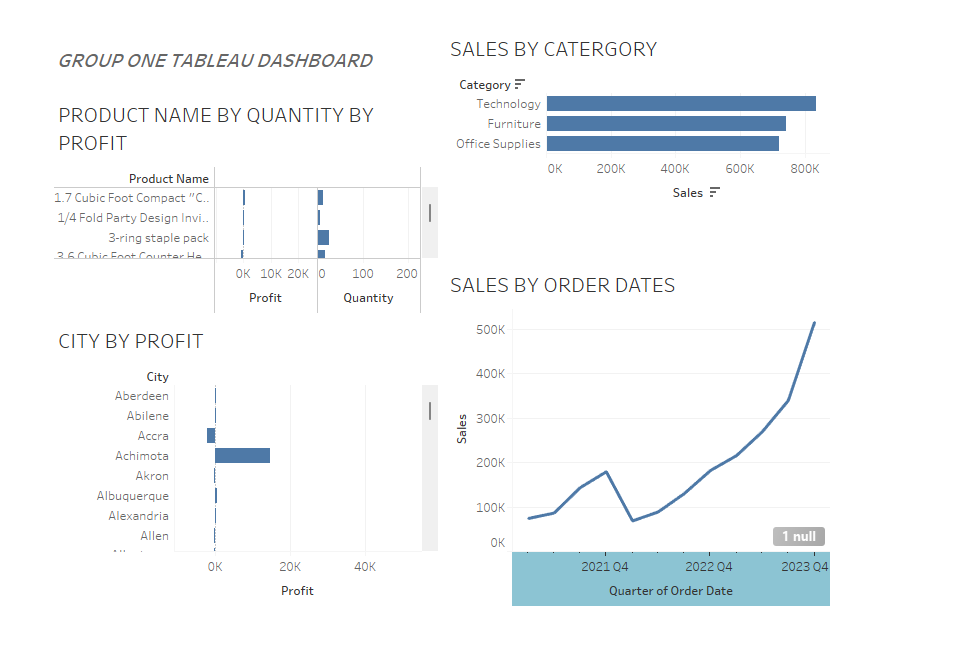

The dashboard page shown, as its layout file describes it:
{"tool":"tableau","page":{"name":"Dashboard 1","canvas":[800,600],"ordinal":0},"visuals":[{"type":"text","box":[8,8,392,66]},{"type":"worksheet","title":"Sheet 1","mark":"Automatic","rows":["Category"],"cols":["Sales"],"box":[400,8,392,236]},{"type":"worksheet","title":"Sheet 3","mark":"Automatic","rows":["Product Name"],"cols":["Profit","Quantity"],"box":[8,74,392,226]},{"type":"worksheet","title":"Sheet 2","mark":"Automatic","rows":["Sales"],"cols":["Order Date"],"box":[400,244,392,348]},{"type":"worksheet","title":"Sheet 4","mark":"Automatic","rows":["City"],"cols":["Profit"],"box":[8,300,392,292]}]}

Visuals, with their boxes on the page's 800x600 design canvas (x1, y1, x2, y2). These are canvas units, not pixel positions in the 955x647 screenshot, which may show the page scaled, cropped or inside an application window:
text: left=8, top=8, right=400, bottom=74
"Sheet 1" worksheet: left=400, top=8, right=792, bottom=244
"Sheet 3" worksheet: left=8, top=74, right=400, bottom=300
"Sheet 2" worksheet: left=400, top=244, right=792, bottom=592
"Sheet 4" worksheet: left=8, top=300, right=400, bottom=592
